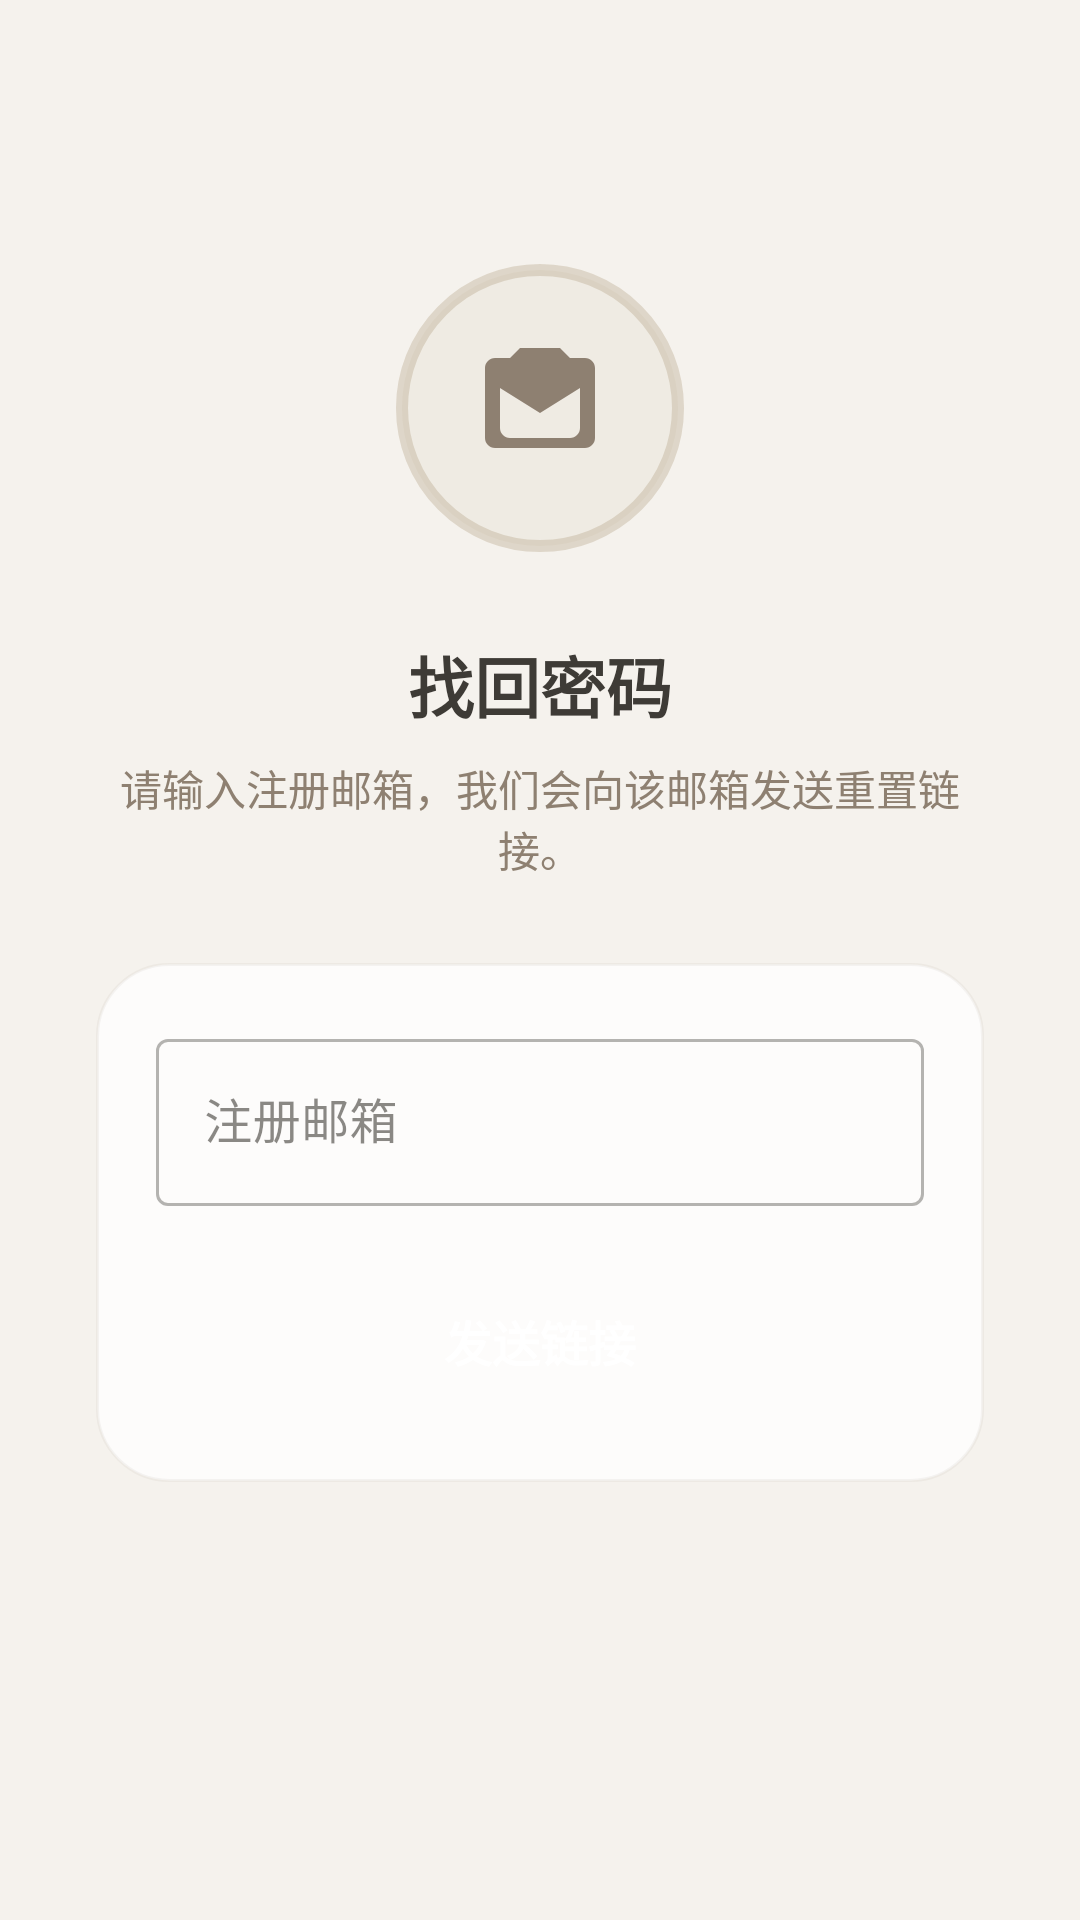

Screen size 1080w x 1920h. Icon name, then its box in pixels as {"x1": x1, "y1": y1, "x2": x2, "y2": y2}:
password reset mail: {"x1": 485, "y1": 348, "x2": 595, "y2": 448}
